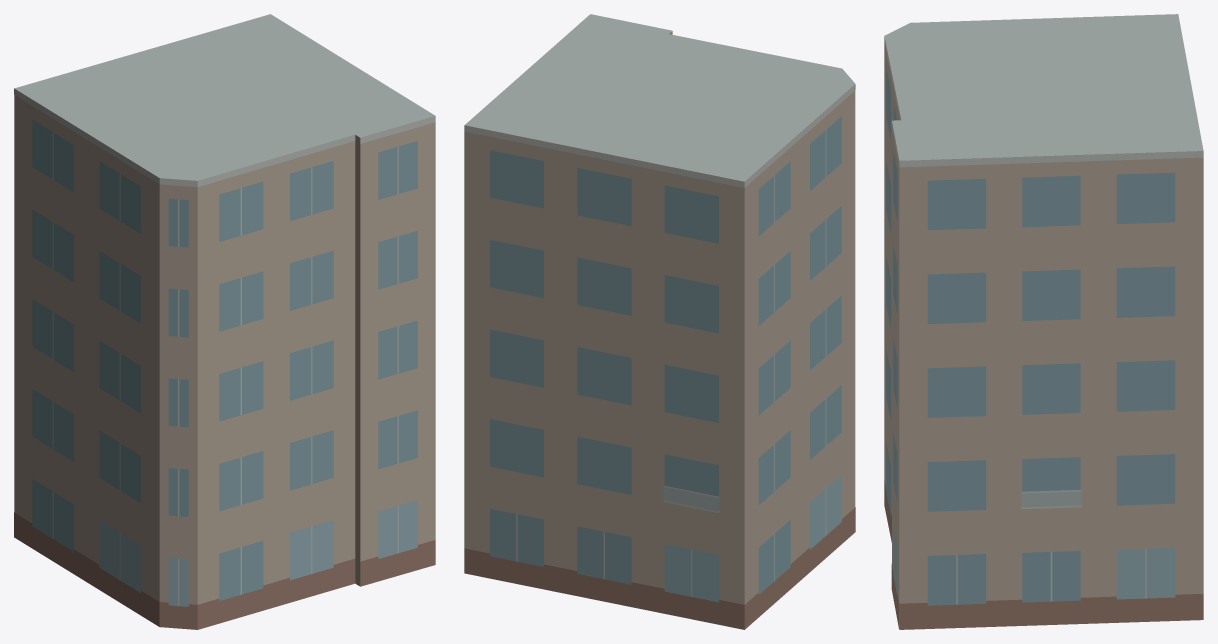
The model's file is survey-upis-32755824.glb.
3 views of the same model, side by side, from view 1: azimuth 30°, elevation 25°; view 2: azimuth 150°, elevation 25°; view 3: azimuth 270°, elevation 25° (orthographic). The views are drawn at different scales.
Parts seen in each view (by area): view 1: survey-upis-32755824.tmp; view 2: survey-upis-32755824.tmp; view 3: survey-upis-32755824.tmp.
Boxes of the visible parts, left/top/right/bottom form: survey-upis-32755824.tmp: left=14, top=14, right=435, bottom=629; survey-upis-32755824.tmp: left=464, top=14, right=855, bottom=629; survey-upis-32755824.tmp: left=884, top=14, right=1203, bottom=629.
Bounding box in the file's own units: 11.66 × 17.35 × 10.71.
